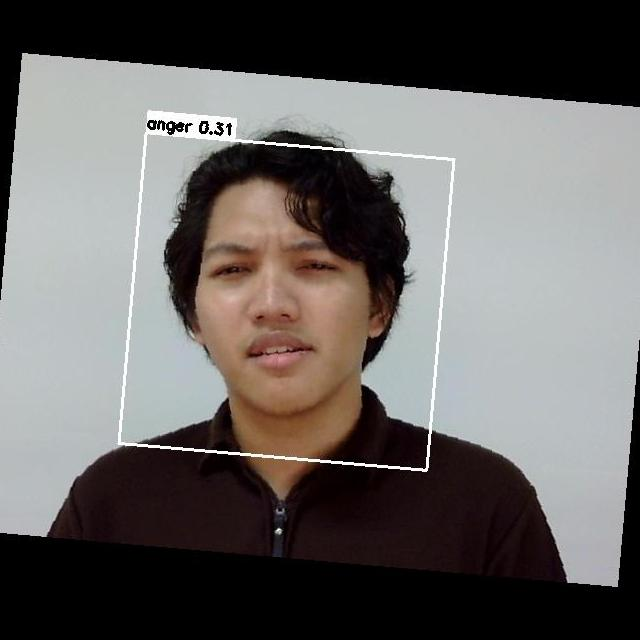Sad: (177, 217, 382, 403)
